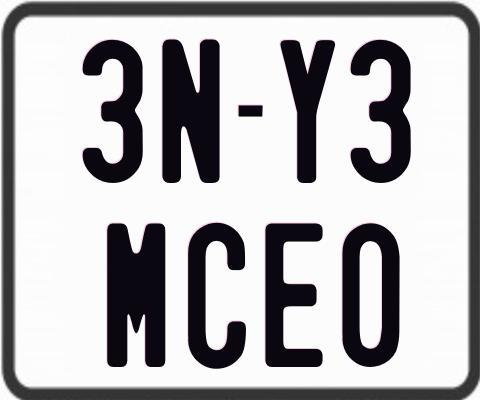0: (341, 221, 405, 369)
3: (351, 38, 416, 187), (83, 37, 146, 186)
C: (186, 222, 249, 371)
E: (262, 221, 325, 369)
M: (105, 221, 164, 367)
N: (161, 37, 222, 187)
Y: (278, 39, 338, 186)
